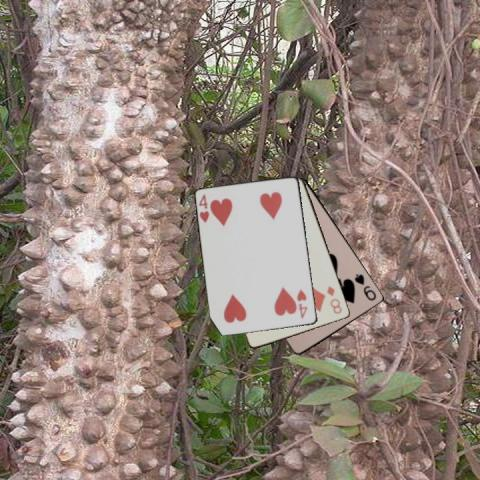4h: (196, 191, 211, 224), (295, 287, 309, 320)
8d: (324, 284, 343, 316)
9s: (352, 271, 378, 302)
